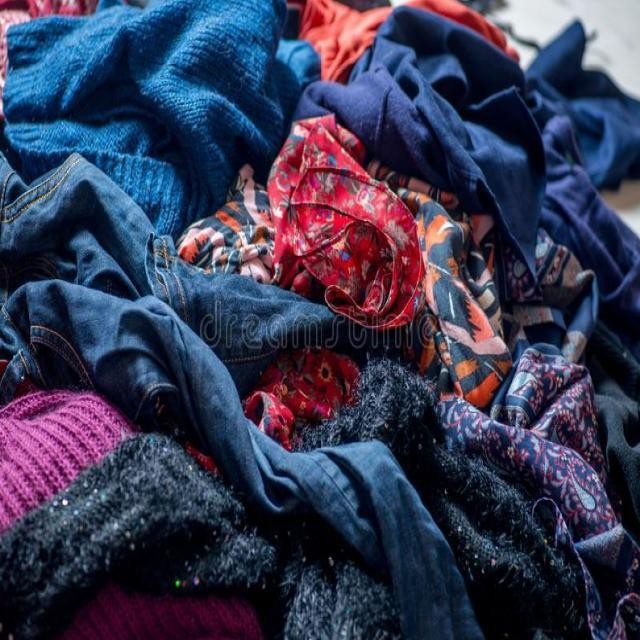clothes: (24, 41, 626, 621)
